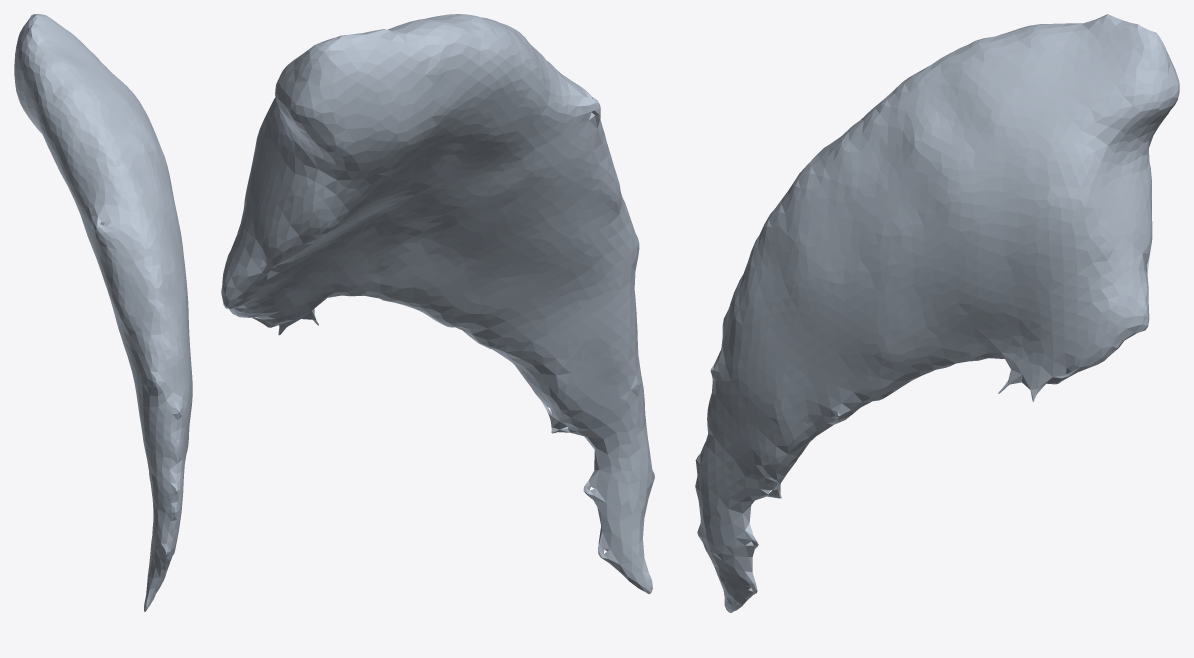
Rendered from Left_Caudate.glb.
3 views of the same model, side by side, from view 1: azimuth 30°, elevation 25°; view 2: azimuth 150°, elevation 25°; view 3: azimuth 270°, elevation 25° (orthographic). The views are drawn at different scales.
Visible parts, largest first — view 1: world; view 2: world; view 3: world.
Part boxes in pixels (<box>): world: <box>14,14,192,611</box>; world: <box>221,14,654,593</box>; world: <box>695,14,1179,612</box>.
Size of the model in its own units: 15.45 by 49.7 by 33.21.
